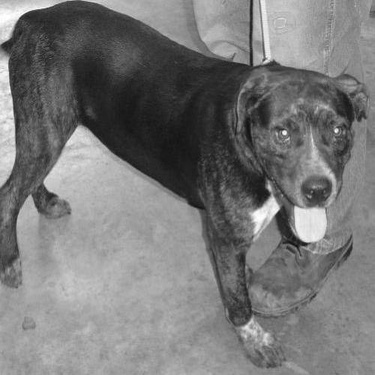dog: (1, 6, 372, 372)
